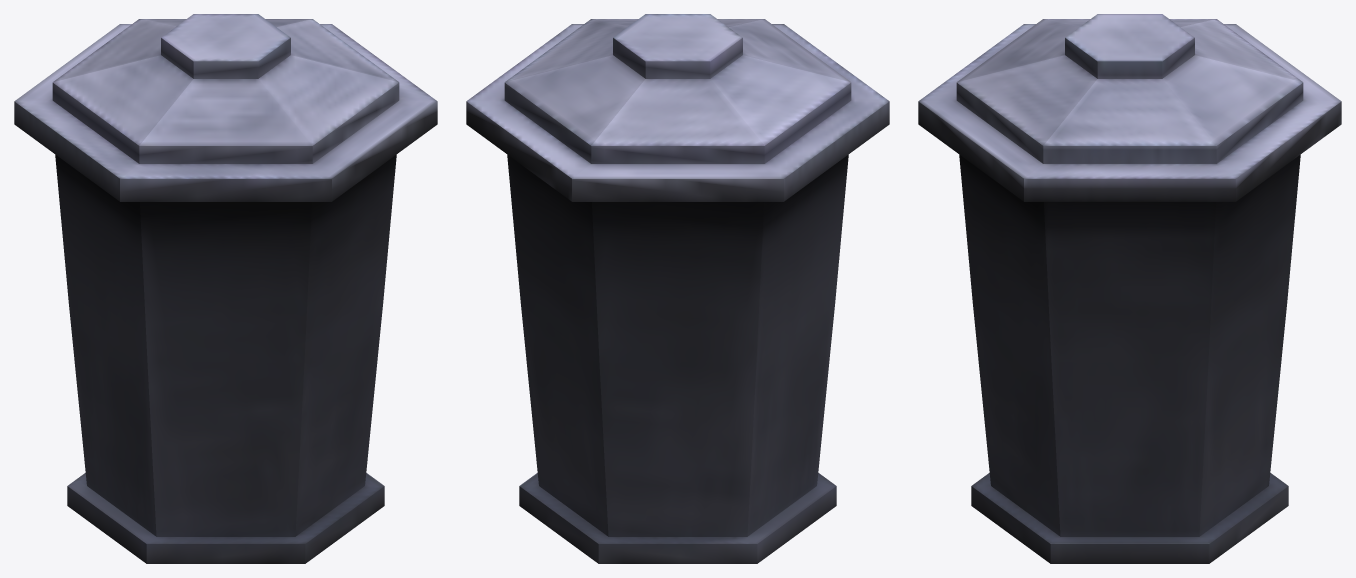
The model's file is resource_waste.fbx.
3 views of the same model, side by side, from view 1: azimuth 30°, elevation 25°; view 2: azimuth 150°, elevation 25°; view 3: azimuth 270°, elevation 25° (orthographic).
Visible parts, largest first — view 1: Waste; view 2: Waste; view 3: Waste.
Boxes of the visible parts, x1,y1,x2,y2 form: Waste: (14, 14, 437, 563); Waste: (466, 14, 889, 563); Waste: (918, 14, 1341, 563).
Size of the model in its own units: 0.00226 by 0.00318 by 0.00261.
